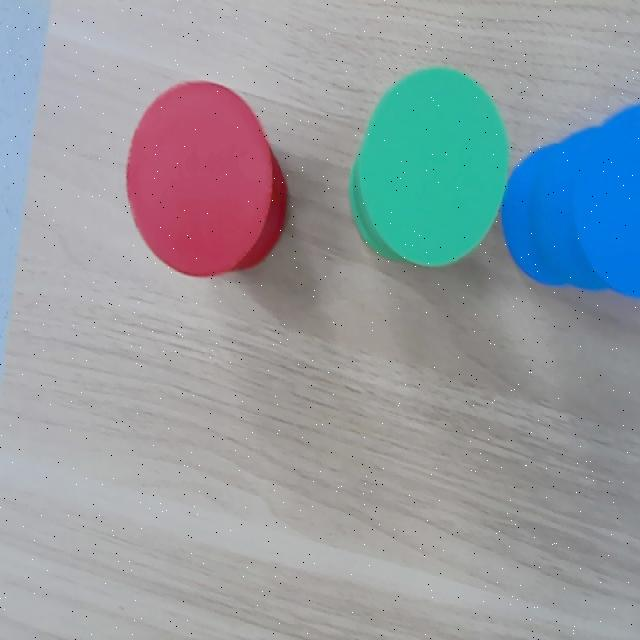g: (358, 65, 511, 264)
r: (126, 81, 273, 277)
